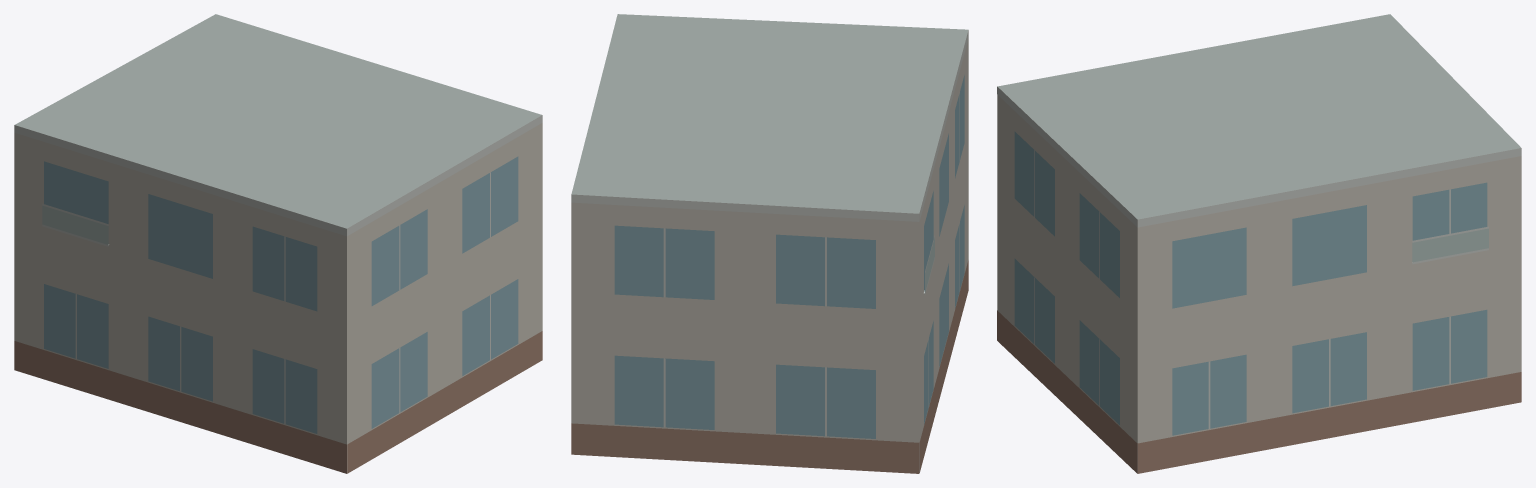
The model's file is survey-upis-32525122.glb.
3 renders of one model, left to right at view 1: azimuth 30°, elevation 25°; view 2: azimuth 150°, elevation 25°; view 3: azimuth 270°, elevation 25°, orthographic. The views are drawn at different scales.
Visible parts, largest first — view 1: survey-upis-32525122.tmp; view 2: survey-upis-32525122.tmp; view 3: survey-upis-32525122.tmp.
Boxes of the visible parts, x1,y1,x2,y2 form: survey-upis-32525122.tmp: (14, 14, 542, 473); survey-upis-32525122.tmp: (571, 14, 968, 473); survey-upis-32525122.tmp: (997, 14, 1521, 473).
Bounding box in the file's own units: 13.54 × 7.8 × 14.59.
